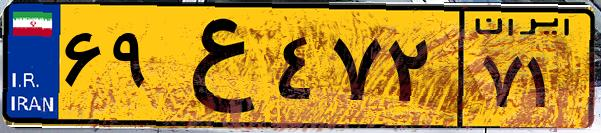1: (525, 38, 570, 115)
2: (385, 28, 445, 110)
4: (270, 28, 330, 110)
6: (57, 26, 110, 100)
7: (330, 28, 385, 110), (475, 38, 525, 113)
9: (110, 28, 158, 98)
ع: (158, 12, 270, 120)
